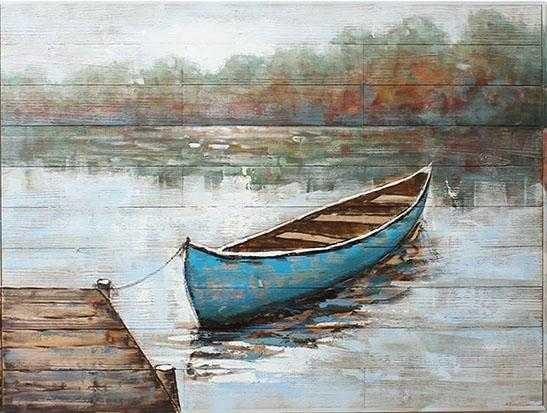kayak: (183, 162, 433, 326)
